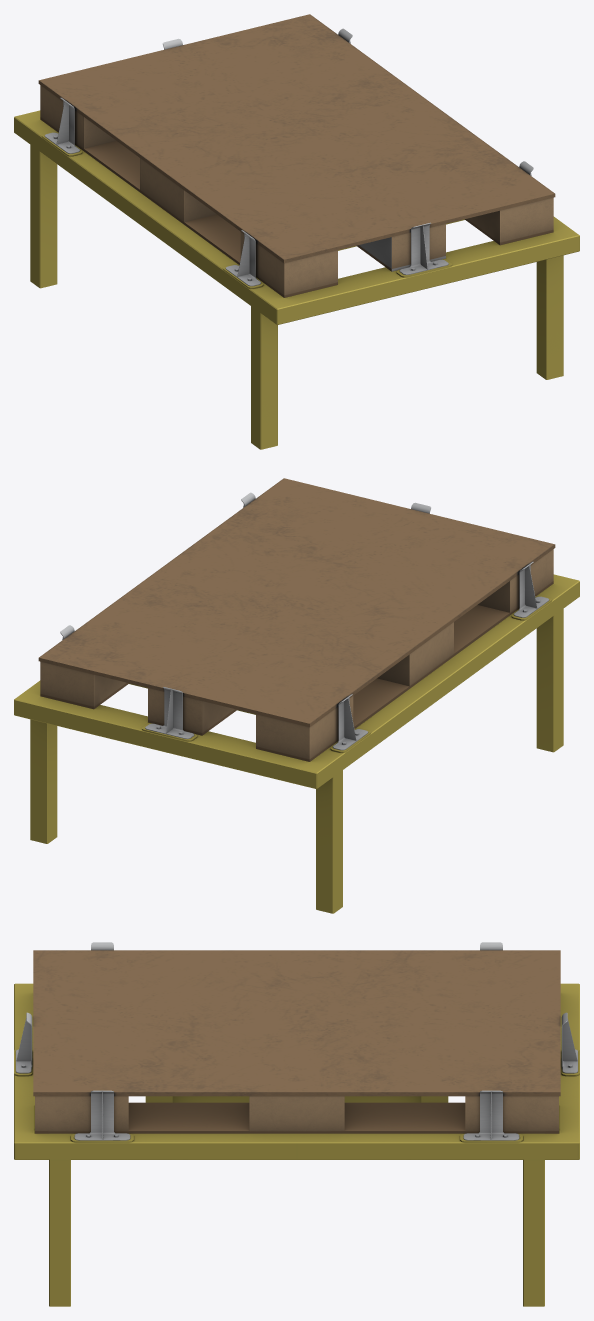
File: PalletStand.fbx
The picture shows the model from 3 angles, top to bottom: view 1: azimuth 30°, elevation 25°; view 2: azimuth 150°, elevation 25°; view 3: azimuth 270°, elevation 25°; orthographic projection. The views are drawn at different scales.
Visible parts, largest first — view 1: PalletStand; view 2: PalletStand; view 3: PalletStand.
Part boxes in pixels (x1,y1,x2,y2): PalletStand: (14, 14, 579, 449); PalletStand: (14, 478, 579, 913); PalletStand: (14, 942, 579, 1306).
Bounding box in the file's own units: 168 × 104 × 253.
